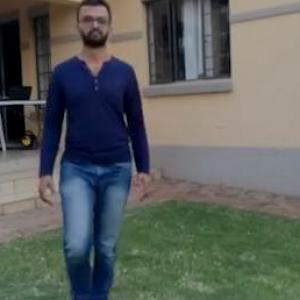follow: (34, 0, 150, 299)
